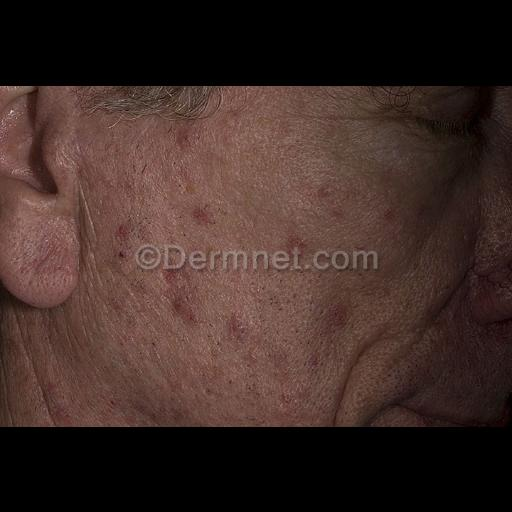Skin_Lesion: (380, 194, 438, 268), (164, 279, 206, 329), (315, 187, 349, 227), (44, 378, 74, 422), (320, 298, 350, 334), (174, 124, 204, 154), (224, 308, 248, 344), (260, 350, 288, 380), (286, 224, 310, 254), (192, 200, 214, 230), (379, 202, 401, 230), (106, 296, 126, 324), (116, 220, 132, 238), (115, 244, 131, 260)
